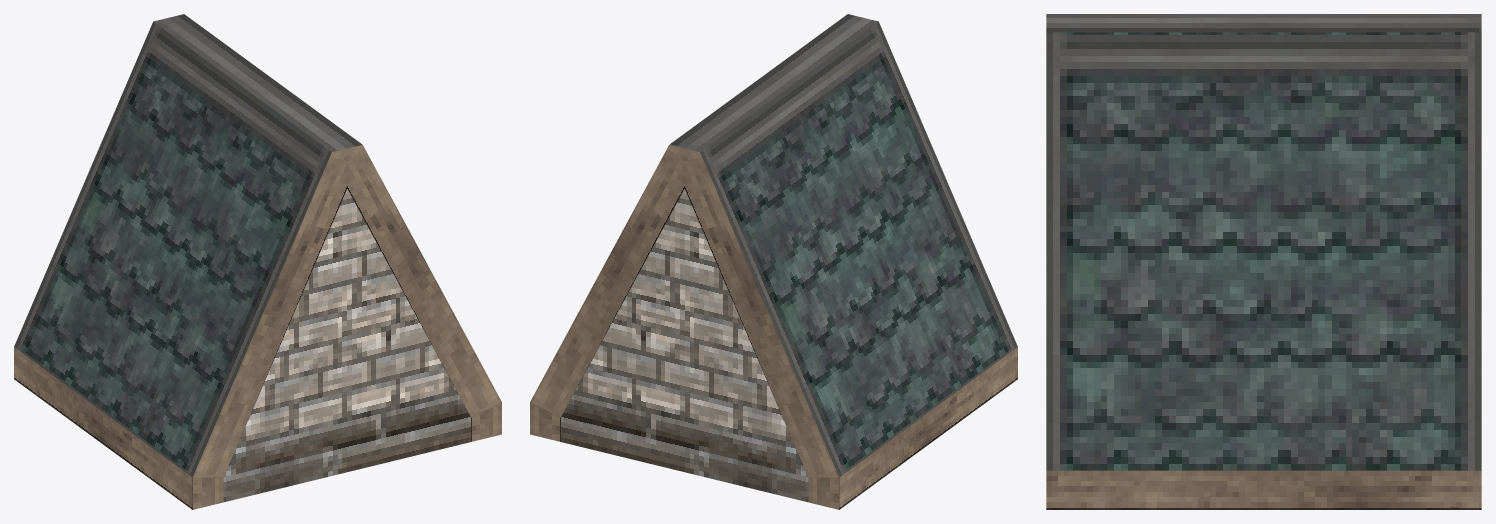
The model's file is roof.002_lev3.glb.
The picture shows the model from 3 angles, left to right: view 1: azimuth 30°, elevation 25°; view 2: azimuth 150°, elevation 25°; view 3: azimuth 270°, elevation 25°; orthographic projection. The views are drawn at different scales.
Visible parts, largest first — view 1: roof.002_lev3; view 2: roof.002_lev3; view 3: roof.002_lev3.
Boxes of the visible parts, <box> form: roof.002_lev3: <box>14,14,501,509</box>; roof.002_lev3: <box>530,14,1017,509</box>; roof.002_lev3: <box>1046,14,1481,509</box>.
Bounding box in the file's own units: 8 × 8 × 8.
Materials: 4 (4 with a texture image).
